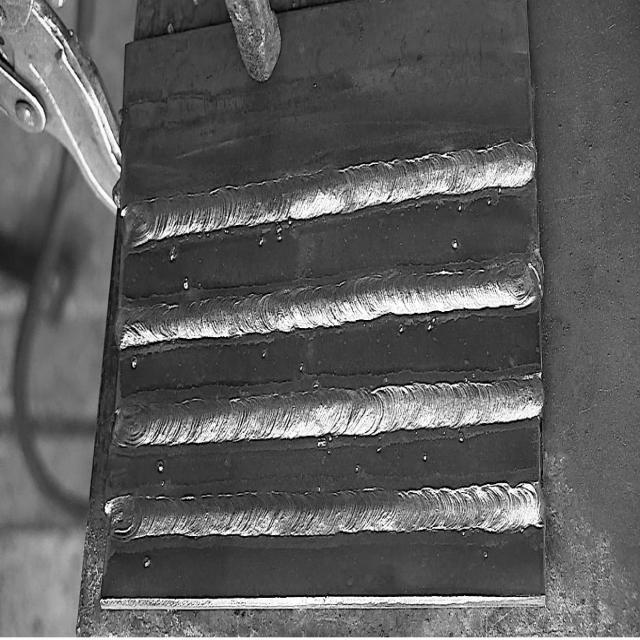Good Weld: (115, 262, 540, 344), (124, 140, 535, 217), (114, 383, 543, 443), (114, 488, 532, 542)
